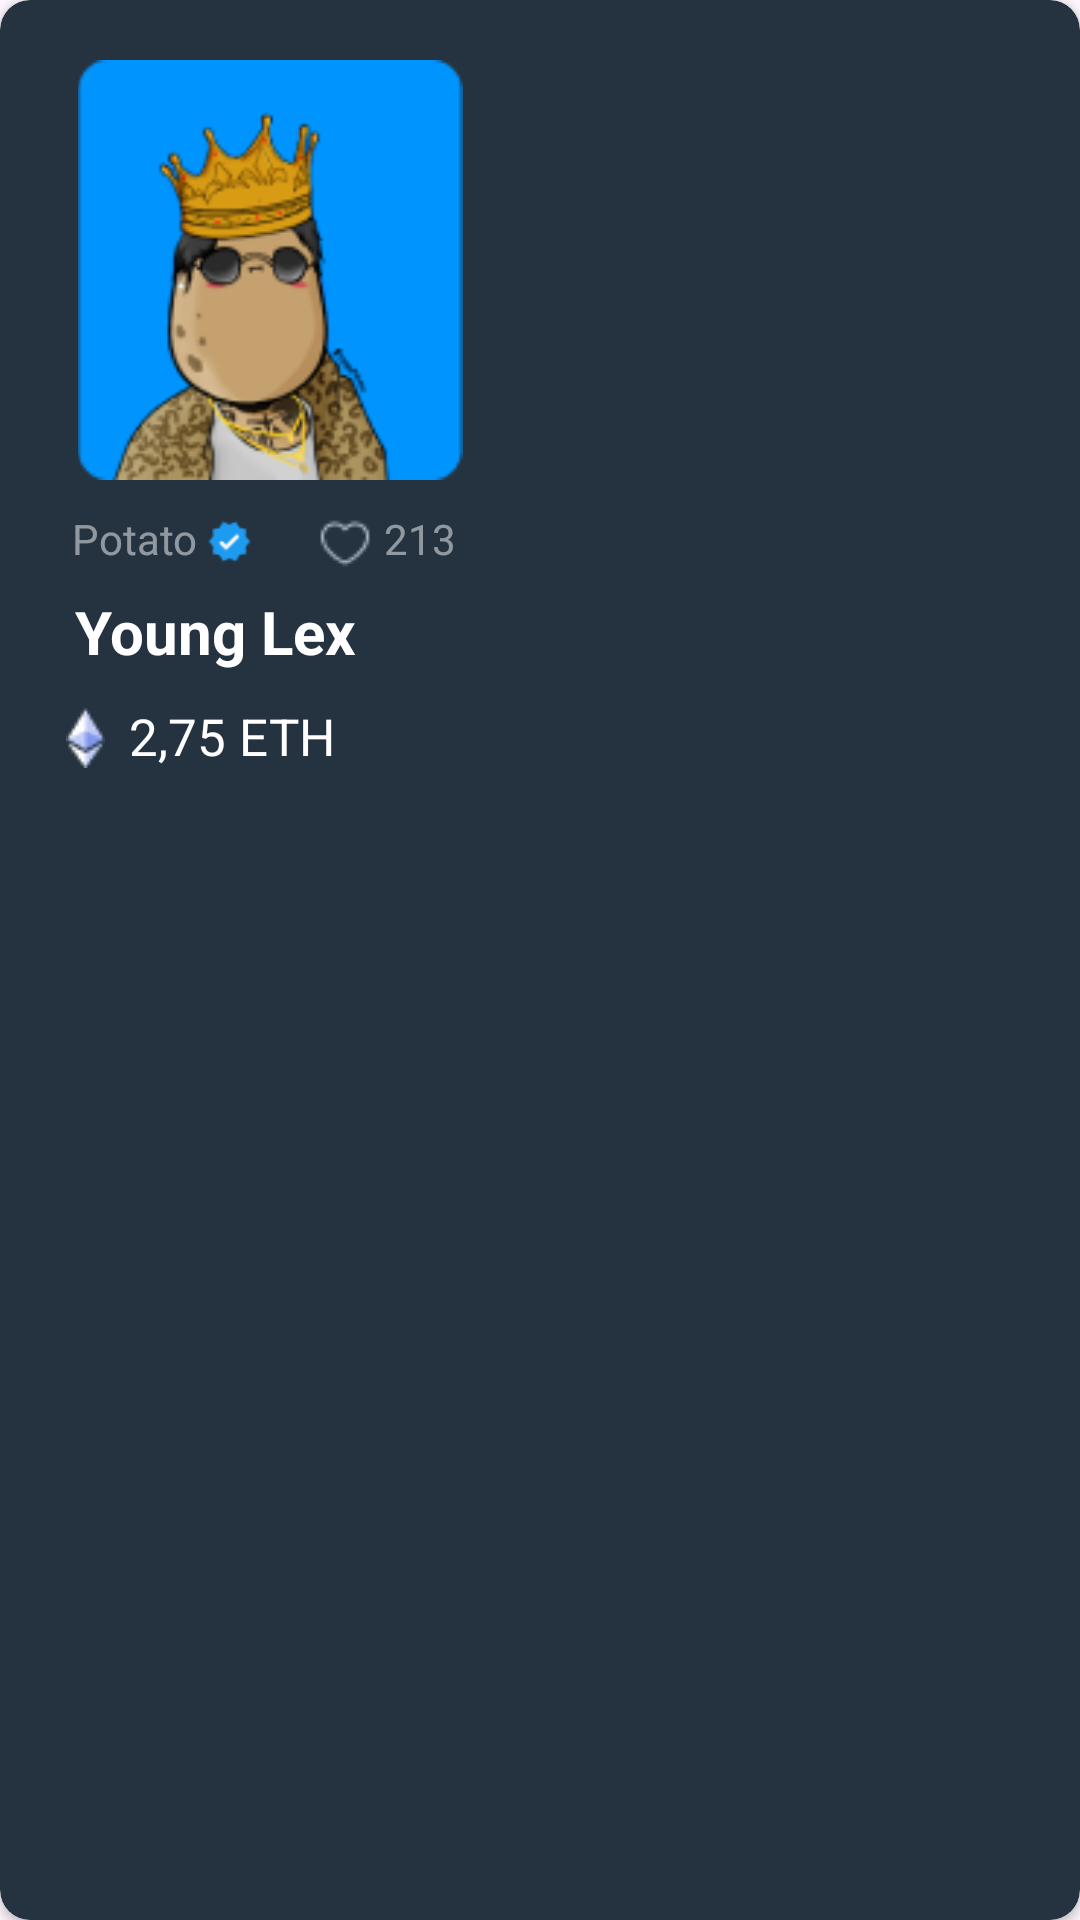

Where icons sit on this 1080*1920 app screen, as (x1, y1, x2, y2):
heart like: (320, 521, 370, 565)
verified: (208, 521, 251, 561)
